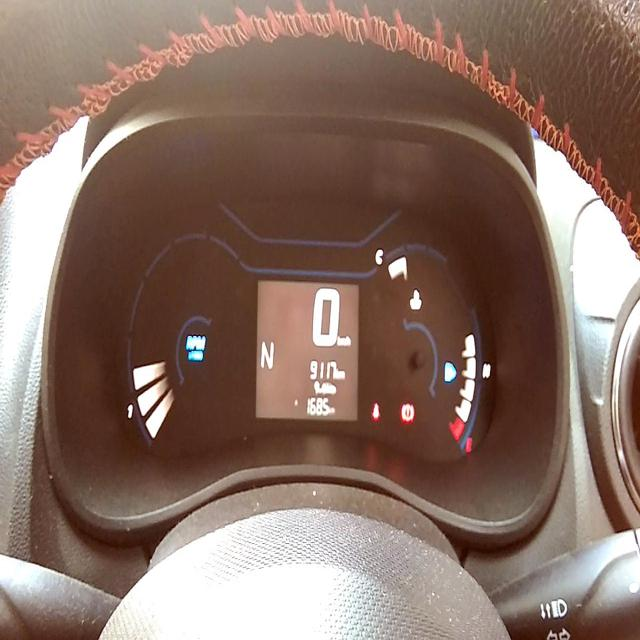odometer: (307, 354, 336, 379)
